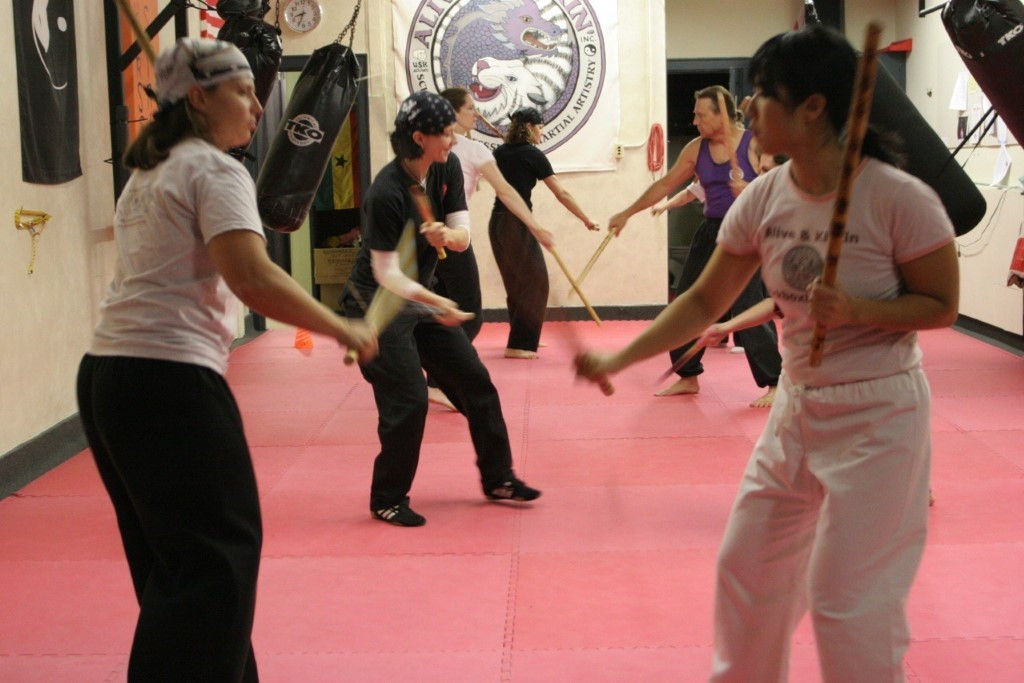baston_e: (808, 34, 886, 355), (549, 253, 604, 323), (576, 224, 613, 293), (658, 334, 706, 386), (715, 96, 743, 174)
baston_v: (863, 12, 887, 37), (804, 352, 826, 371), (339, 349, 360, 366), (599, 383, 617, 402), (435, 243, 449, 262), (712, 88, 726, 99), (594, 317, 605, 329), (592, 222, 601, 233), (566, 287, 573, 296)
